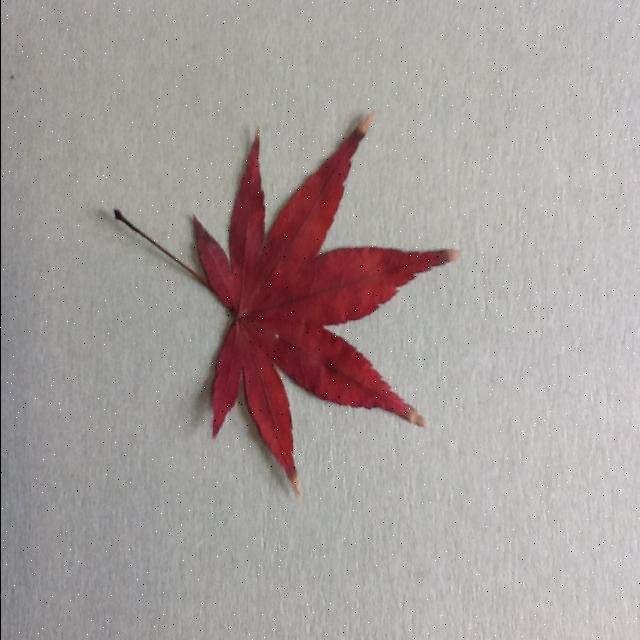foliage: (114, 110, 464, 494)
